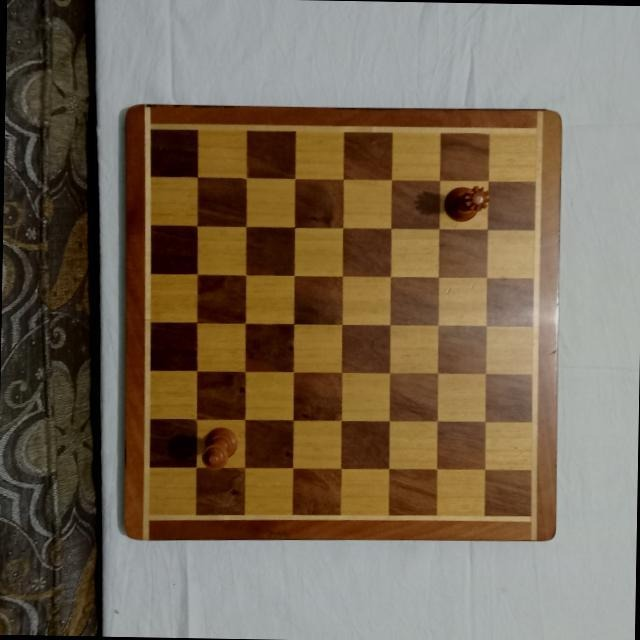white-king: (200, 424, 236, 468)
white-queen: (440, 183, 491, 223)
